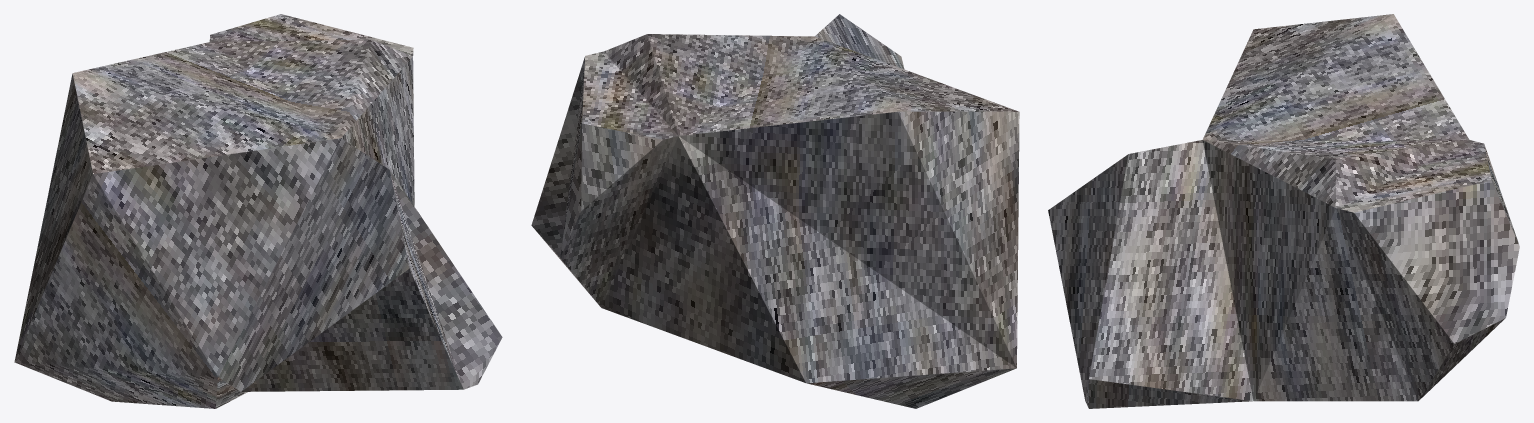
File: BasicRock.glb
3 views of the same model, side by side, from view 1: azimuth 30°, elevation 25°; view 2: azimuth 150°, elevation 25°; view 3: azimuth 270°, elevation 25° (orthographic). The views are drawn at different scales.
Parts seen in each view (by area): view 1: Rock; view 2: Rock; view 3: Rock.
Part boxes in pixels (left/top/right/bottom): Rock: left=14, top=14, right=502, bottom=408; Rock: left=531, top=14, right=1019, bottom=408; Rock: left=1048, top=14, right=1519, bottom=408.
Size of the model in its own units: 1.84 by 1.33 by 1.8.
Materials: 1 (1 with a texture image).
